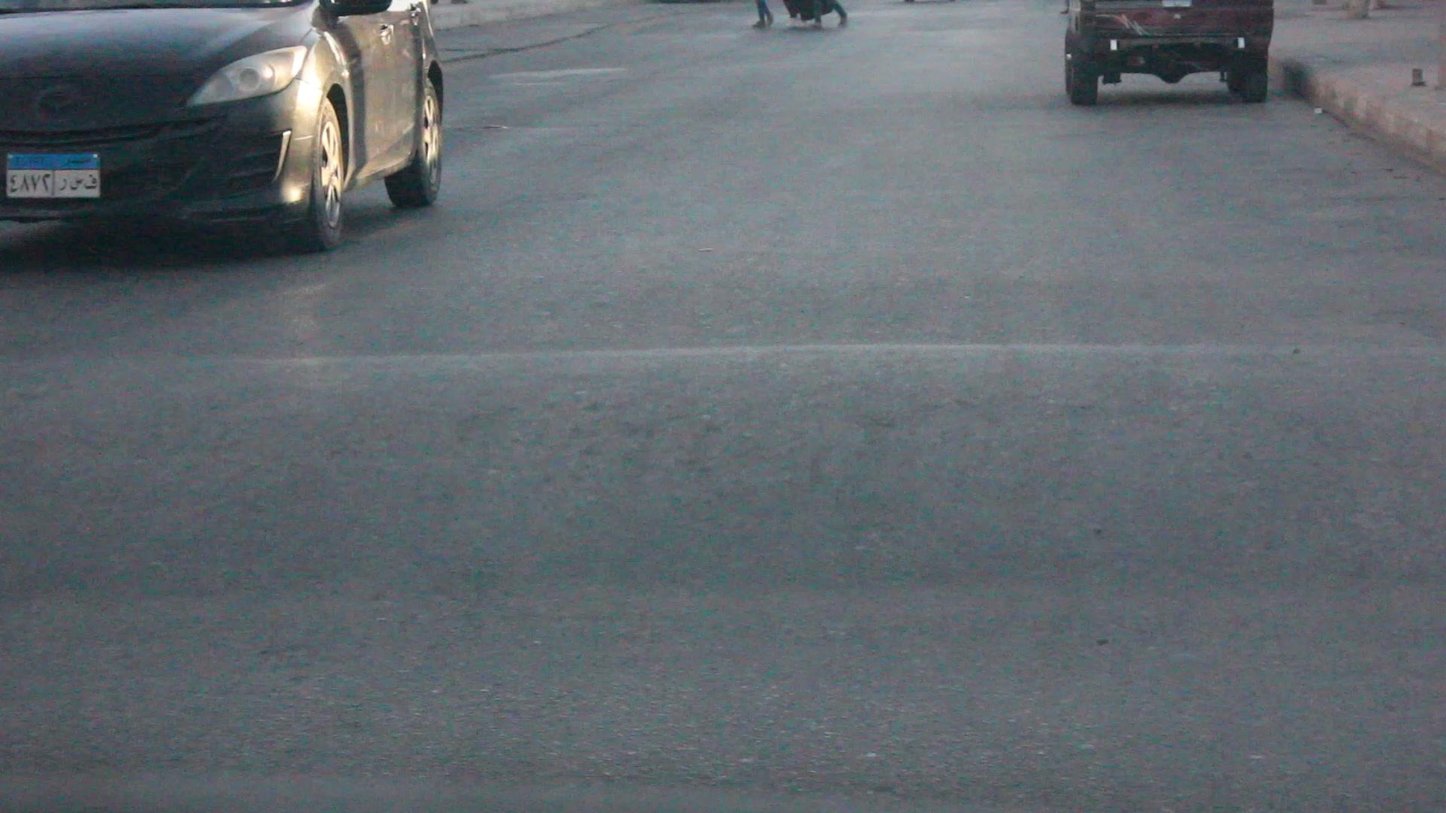Bump: (0, 348, 1446, 606)
